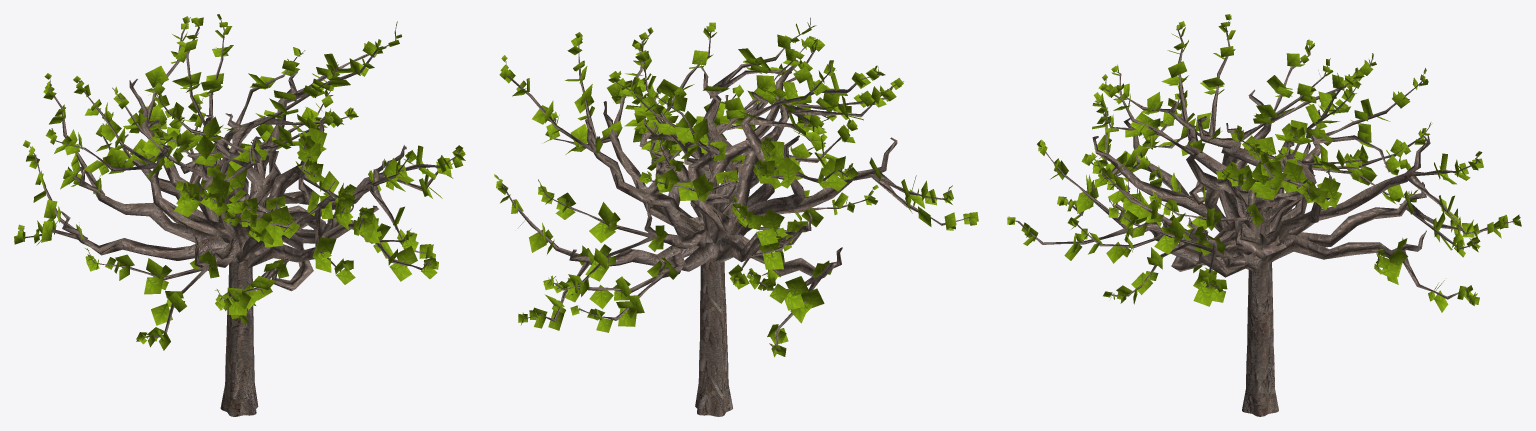
Rendered from cooltree2.obj.
3 views of the same model, side by side, from view 1: azimuth 30°, elevation 25°; view 2: azimuth 150°, elevation 25°; view 3: azimuth 270°, elevation 25° (orthographic). The views are drawn at different scales.
Visible parts, largest first — view 1: bark04, leaf oak; view 2: bark04, leaf oak; view 3: leaf oak, bark04.
Part boxes in pixels (<box>): bark04: <box>14,14,465,350</box>; leaf oak: <box>23,17,463,416</box>; bark04: <box>494,22,978,357</box>; leaf oak: <box>496,18,970,416</box>; leaf oak: <box>1007,15,1520,416</box>; bark04: <box>1007,14,1521,312</box>.
Size of the model in its own units: 192 by 169 by 227.
2 materials, 2 textured.
